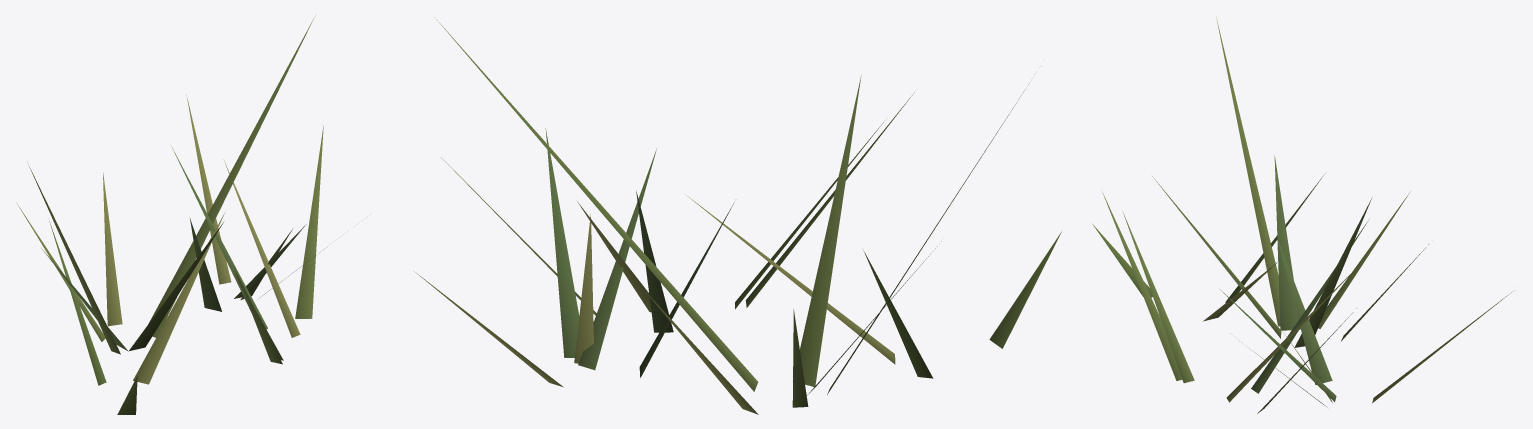
The model's file is grass_tuft_lod1.glb.
3 renders of one model, left to right at view 1: azimuth 30°, elevation 25°; view 2: azimuth 150°, elevation 25°; view 3: azimuth 270°, elevation 25°, orthographic. The views are drawn at different scales.
Visible parts, largest first — view 1: grass_tuft_lod1; view 2: grass_tuft_lod1; view 3: grass_tuft_lod1.
Boxes of the visible parts, box(x1,y1,x2,y2) form: grass_tuft_lod1: box(16, 18, 323, 414); grass_tuft_lod1: box(414, 17, 1061, 414); grass_tuft_lod1: box(1092, 19, 1514, 413).
Bounding box in the file's own units: 0.6192 × 0.3976 × 0.6152.
